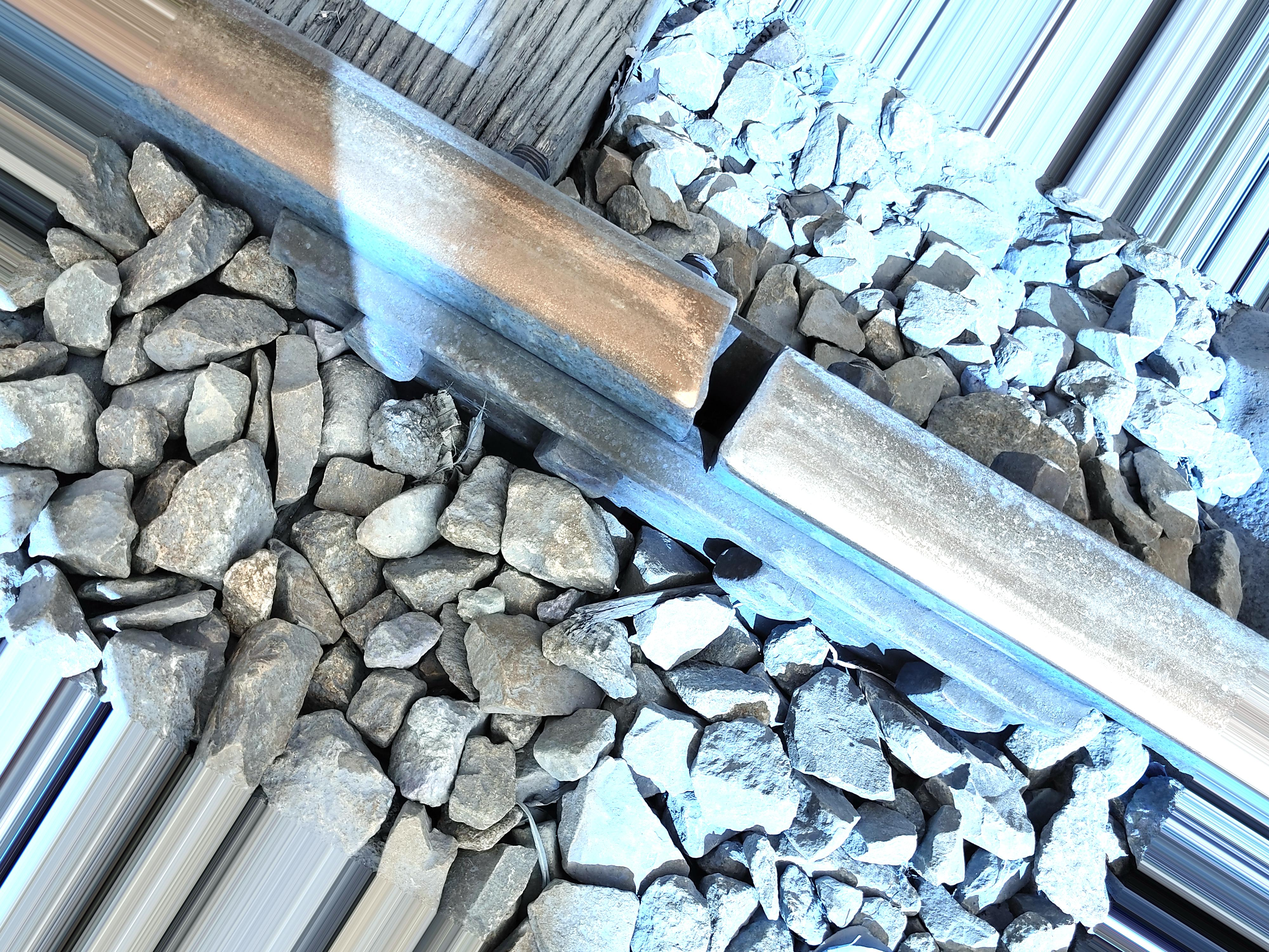tracks_fault: (581, 183, 924, 567)
